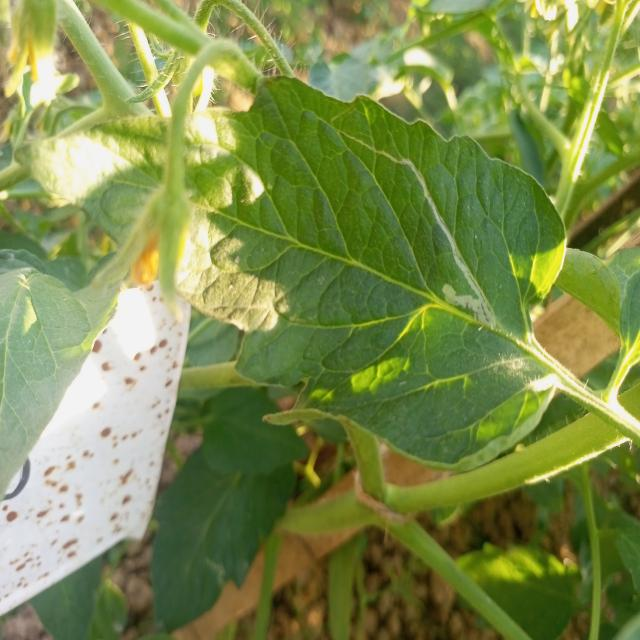Tuta absoluta: (394, 148, 497, 339)
